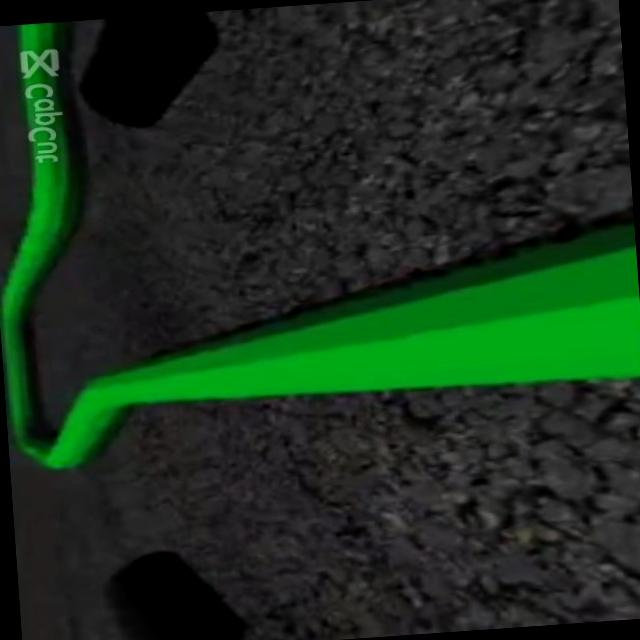gas: (101, 215, 640, 416), (39, 368, 112, 469)
